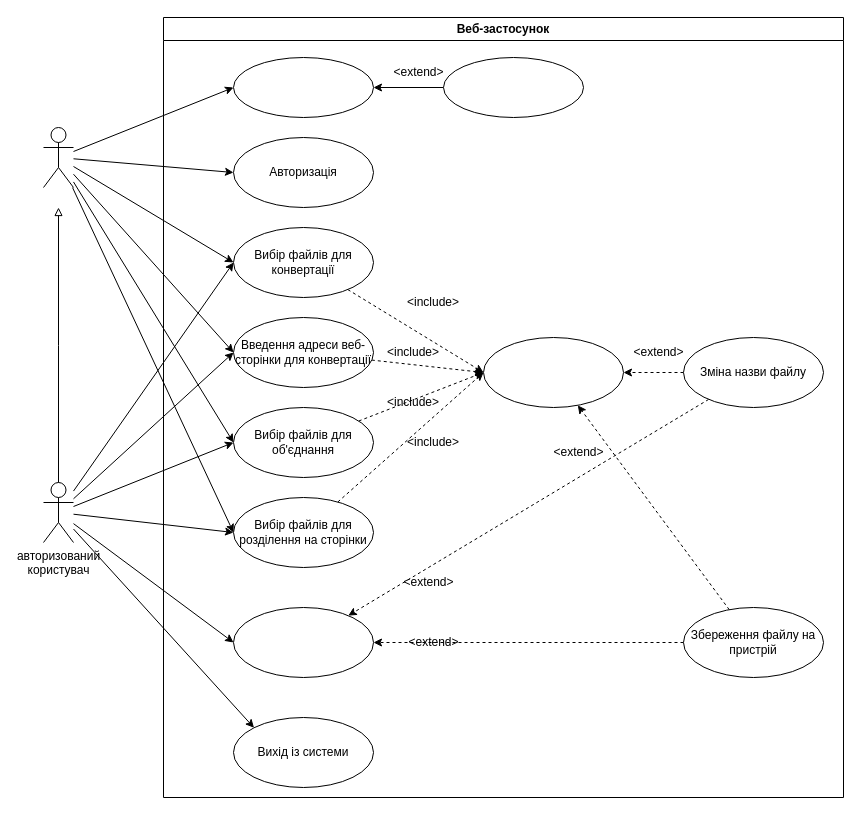
Image size: 861x815. Some labels were removed from this diagram. Here are the shapes that lost their labels. From the top down, the box of each, then its label:
(232, 56, 374, 118): Реєстрація
(442, 56, 584, 118): Авторизація через обліковий заспис Google
(42, 126, 74, 188): гість
(482, 336, 624, 408): Перегляд отриманих PDF файлів
(232, 606, 374, 678): Перегляд сторінки профілю зі списком збережених у системі файлів
